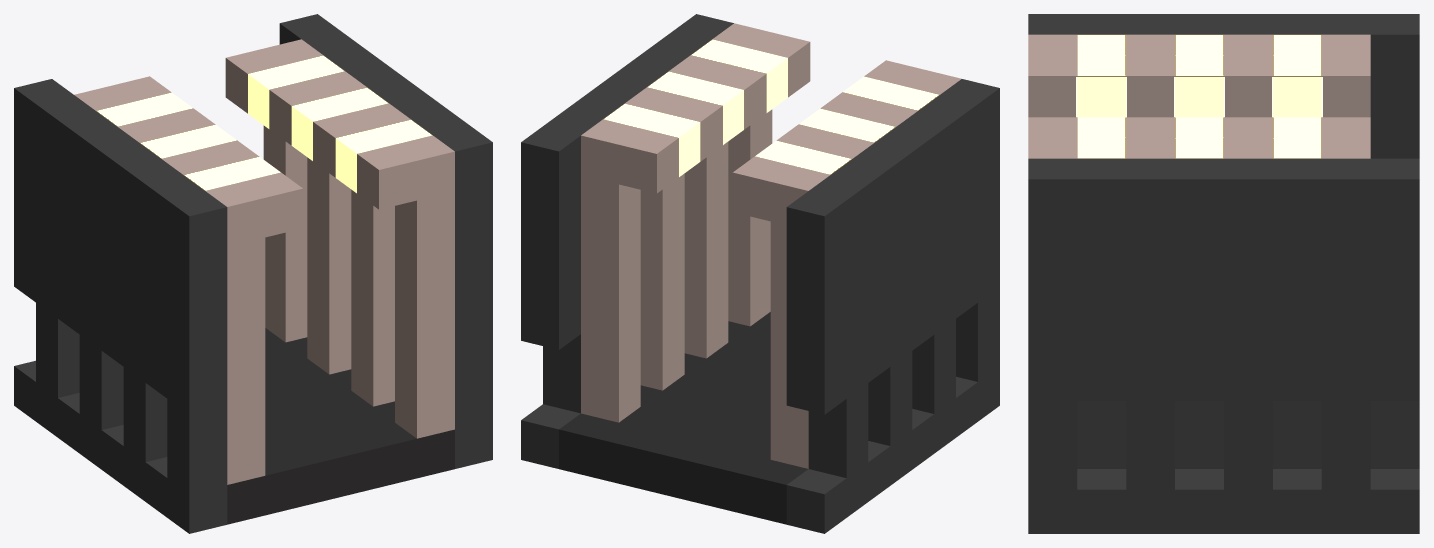
3 renders of one model, left to right at view 1: azimuth 30°, elevation 25°; view 2: azimuth 150°, elevation 25°; view 3: azimuth 270°, elevation 25°, orthographic. The views are drawn at different scales.
Visible parts, largest first — view 1: hallway2.vox; view 2: hallway2.vox; view 3: hallway2.vox.
Part boxes in pixels (<box>): hallway2.vox: <box>14,14,492,533</box>; hallway2.vox: <box>521,14,999,533</box>; hallway2.vox: <box>1028,14,1419,533</box>.
Bounding box in the file's own units: 0.8 × 0.8 × 0.8.
